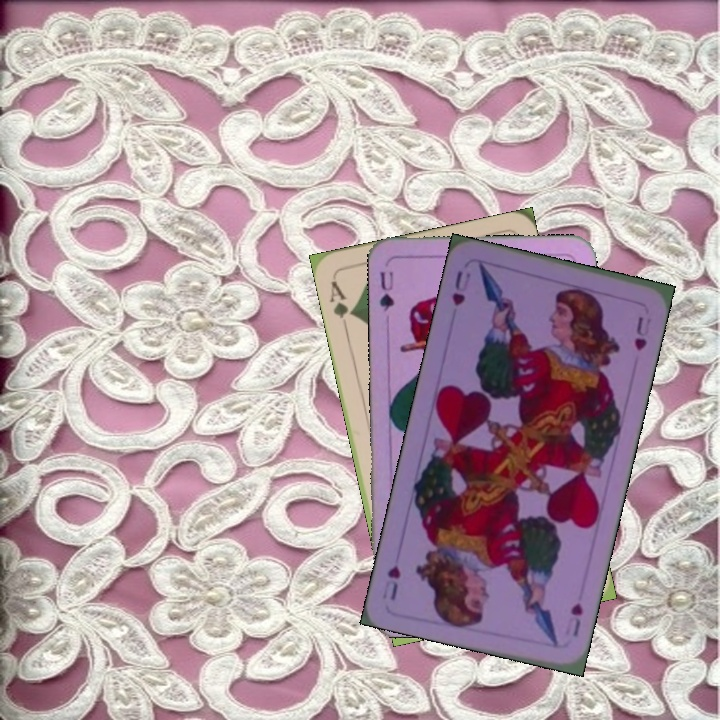GA: (325, 276, 357, 333)
GU: (375, 268, 396, 314)
HU: (447, 267, 473, 308), (566, 598, 585, 639)
